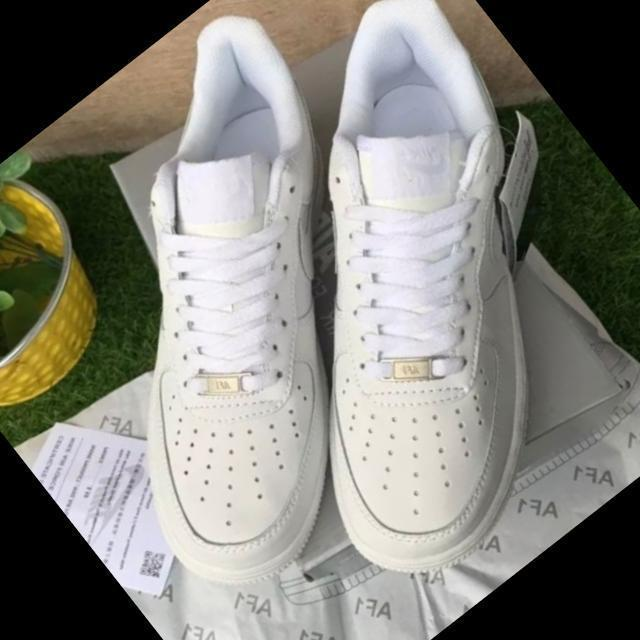nike fake air force: (93, 0, 640, 611), (0, 0, 517, 586)
